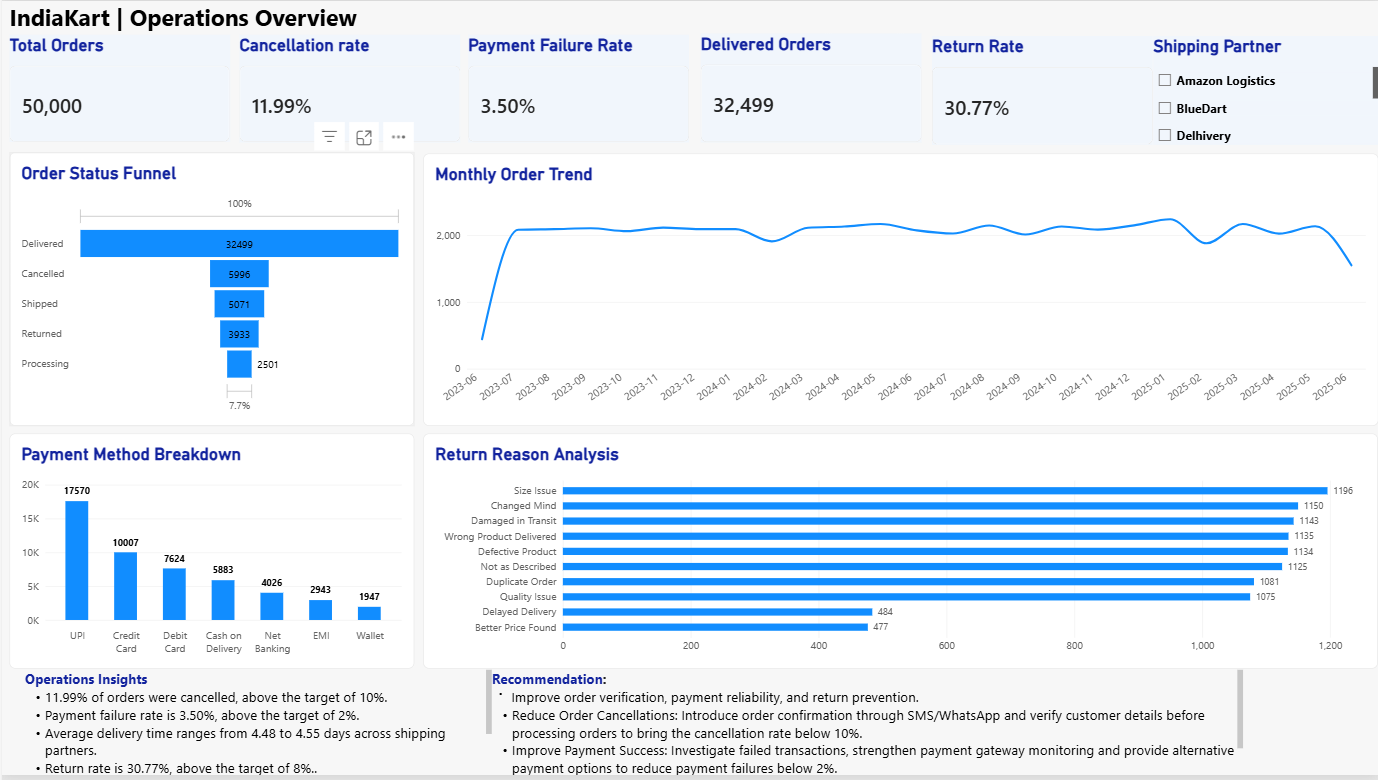

This screenshot's page, from the dashboard's own definition file:
{"tool":"powerbi","page":{"name":"Operations","canvas":[1920,1080],"ordinal":3},"visuals":[{"type":"textbox","box":[10.8,0,515.1,68.4],"z":0},{"type":"cardVisual","title":"Total Orders","fields":{"Data":["Sum(customers DA.total_orders)"]},"box":[10.8,46.8,308,149.5],"z":1000},{"type":"cardVisual","title":"Cancellation rate","fields":{"Data":["customers DA.Cancellation Rate"]},"box":[331.4,47.1,308,150],"z":2000},{"type":"cardVisual","title":"Payment Failure Rate","fields":{"Data":["payments DA.Payment Failure Rate"]},"box":[650.6,47.1,308,150],"z":3000},{"type":"cardVisual","title":"Delivered Orders","fields":{"Data":["orders DA.Delivered Orders"]},"box":[974.2,46,308.1,152],"z":4000},{"type":"cardVisual","title":"Return Rate","fields":{"Data":["returns DA.Measure"]},"box":[1298.3,48,308.1,152],"z":5000},{"type":"funnel","title":"Order Status Funnel","fields":{"Category":["orders DA.status"],"Y":["Count(orders DA.order_id)"]},"box":[10.1,211.8,564.8,381.3],"z":6000},{"type":"lineChart","title":"Monthly Order Trend","fields":{"Category":["orders DA.Year Month"],"Y":["Count(orders DA.order_id)"]},"box":[587.8,212.8,1332.6,380.2],"z":7000},{"type":"clusteredColumnChart","title":"Payment Method Breakdown","fields":{"Category":["orders DA.payment_method"],"Y":["CountNonNull(orders DA.order_id)"]},"box":[9.9,604.4,564.6,328],"z":8000},{"type":"clusteredBarChart","title":"Return Reason Analysis","fields":{"Category":["returns DA.reason"],"Y":["CountNonNull(returns DA.return_id)"]},"box":[588.4,604.4,1332,328],"z":9000},{"type":"slicer","title":"Shipping Partner","fields":{"Values":["orders DA.shipping_partner"]},"box":[1606,48,314,152],"z":10000},{"type":"textbox","box":[31.8,932.4,652.1,147.1],"z":11000},{"type":"textbox","box":[683.9,932.4,1047.7,147.1],"z":12000}]}

Visuals, with their boxes in screenshot pixels (x1, y1, x2, y2), scaled from the page's 1920x1080 canvas onto the 1378x780 screenshot:
textbox: bbox(8, 0, 377, 49)
"Total Orders" cardVisual: bbox(8, 34, 229, 142)
"Cancellation rate" cardVisual: bbox(238, 34, 459, 142)
"Payment Failure Rate" cardVisual: bbox(467, 34, 688, 142)
"Delivered Orders" cardVisual: bbox(699, 33, 920, 143)
"Return Rate" cardVisual: bbox(932, 35, 1153, 144)
"Order Status Funnel" funnel: bbox(7, 153, 413, 428)
"Monthly Order Trend" lineChart: bbox(422, 154, 1377, 428)
"Payment Method Breakdown" clusteredColumnChart: bbox(7, 437, 412, 673)
"Return Reason Analysis" clusteredBarChart: bbox(422, 437, 1377, 673)
"Shipping Partner" slicer: bbox(1153, 35, 1377, 144)
textbox: bbox(23, 673, 491, 779)
textbox: bbox(491, 673, 1243, 779)
